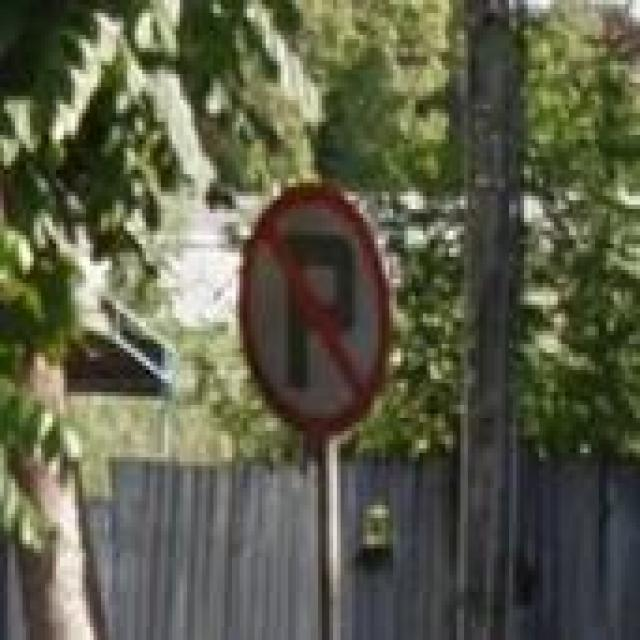traffic sign: (236, 183, 389, 436)
